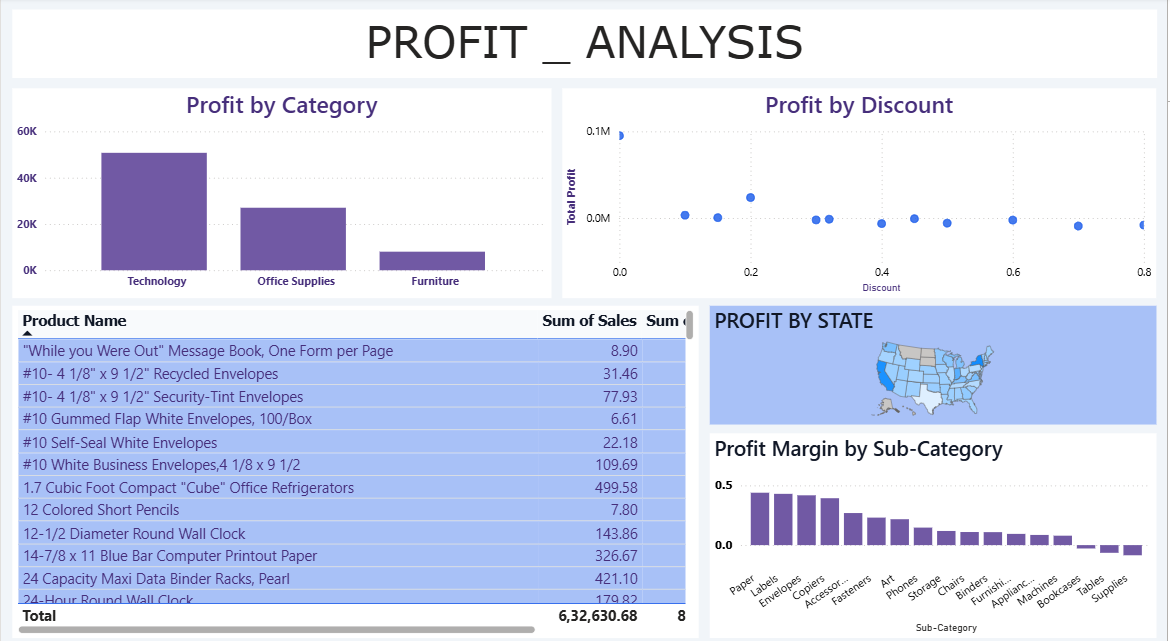

The dashboard page shown, as its layout file describes it:
{"tool":"powerbi","page":{"name":"PROFIT_ANALYSIS","canvas":[1280,720],"ordinal":2},"visuals":[{"type":"columnChart","title":" Profit by Category","fields":{"Y":["ALL_MEASURES.Total Profit"],"Category":["Sample - Superstore.Category"]},"box":[11.7,100,591.7,230],"z":0},{"type":"scatterChart","title":"Profit by Discount","fields":{"Y":["ALL_MEASURES.Total Profit"],"X":["Sample - Superstore.Discount"]},"box":[616.7,100,651.7,230],"z":1000},{"type":"tableEx","fields":{"Values":["Sample - Superstore.Product Name","Sum(Sample - Superstore.Sales)","Sum(Sample - Superstore.Profit)","Sum(Sample - Superstore.Discount)"]},"box":[11.7,338.3,753.3,365],"z":2000},{"type":"shapeMap","title":"PROFIT BY STATE","fields":{"Category":["Sample - Superstore.State"],"Value":["Sum(Sample - Superstore.Profit)"]},"box":[778.3,338.3,490,130],"z":3000},{"type":"clusteredColumnChart","fields":{"Y":["ALL_MEASURES.Profit Margin"],"Category":["Sample - Superstore.Sub-Category"]},"box":[778.3,478.3,490,225],"z":4000},{"type":"textbox","box":[11.7,13.3,1256.7,75],"z":5000}]}

Visuals, with their boxes in screenshot pixels (x1, y1, x2, y2), scaled from the page's 1280x720 canvas onto the 1170x641 screenshot:
" Profit by Category" columnChart: bbox=(11, 89, 552, 294)
"Profit by Discount" scatterChart: bbox=(564, 89, 1159, 294)
tableEx - Sample - Superstore.Product Name x Sum(Sample - Superstore.Sales): bbox=(11, 301, 699, 626)
"PROFIT BY STATE" shapeMap: bbox=(711, 301, 1159, 417)
clusteredColumnChart - ALL_MEASURES.Profit Margin x Sample - Superstore.Sub-Category: bbox=(711, 426, 1159, 626)
textbox: bbox=(11, 12, 1159, 79)
